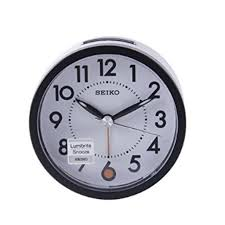alarm_clock: (27, 37, 188, 199)
